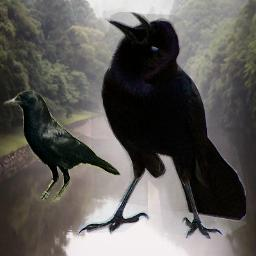Crow: (78, 12, 246, 239), (3, 90, 121, 202)
